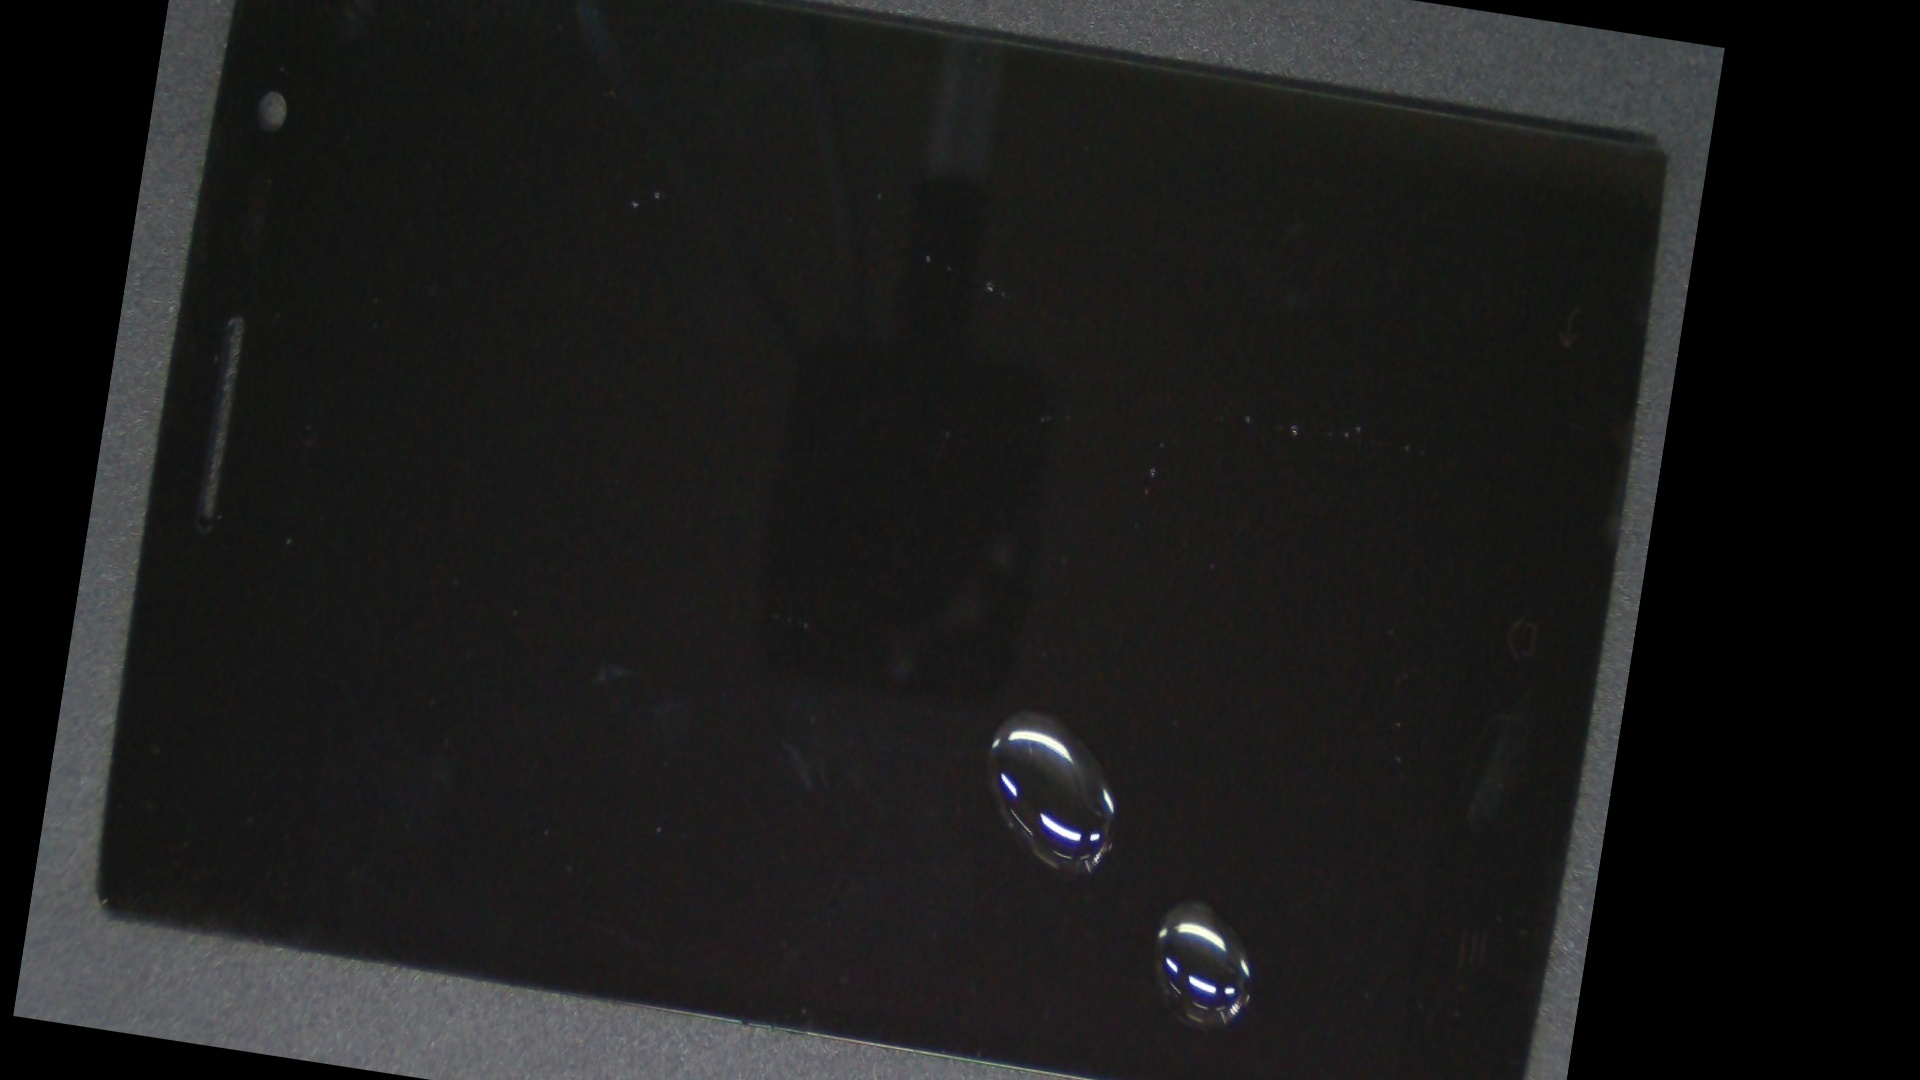oil: (498, 261, 1561, 1080), (580, 357, 1655, 1080)
